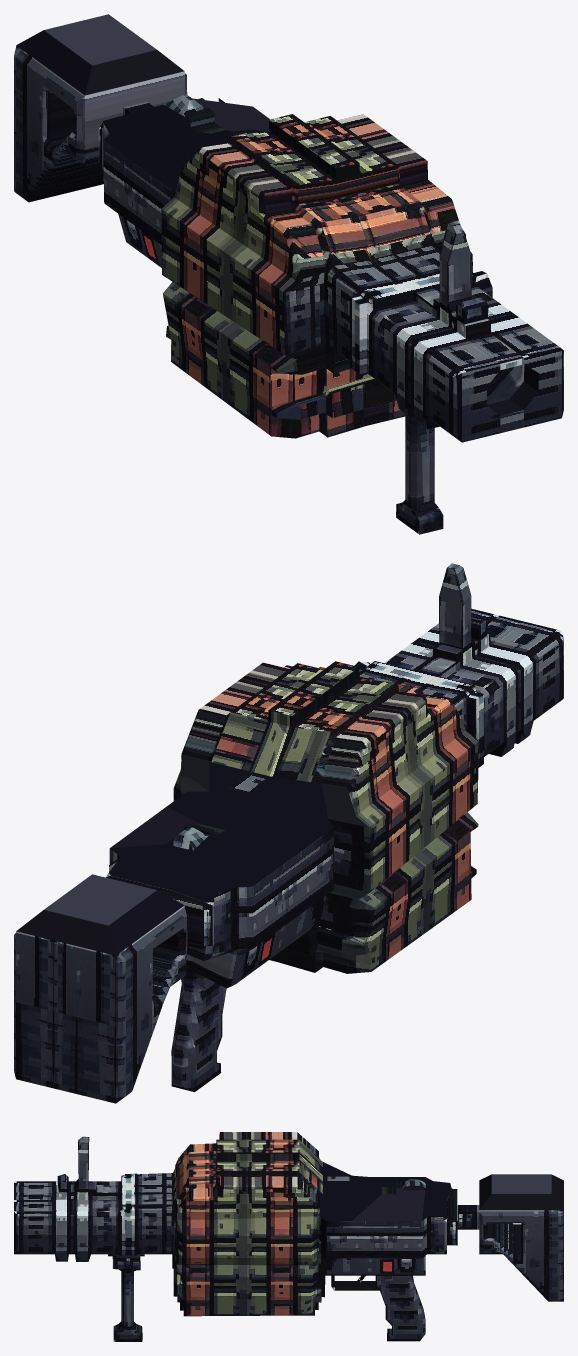
The model's file is grenadelauncher.glb.
3 views of the same model, one above another, from view 1: azimuth 30°, elevation 25°; view 2: azimuth 150°, elevation 25°; view 3: azimuth 270°, elevation 25° (orthographic). The views are drawn at different scales.
Visible parts, largest first — view 1: OIG2 (12); view 2: OIG2 (12); view 3: OIG2 (12).
Part boxes in pixels (x1,y1,x2,y2): OIG2 (12): [14, 14, 563, 534]; OIG2 (12): [14, 563, 563, 1103]; OIG2 (12): [14, 1132, 563, 1341].
Size of the model in its own units: 0.2474 by 0.3792 by 0.942.
1 material, 1 textured.
